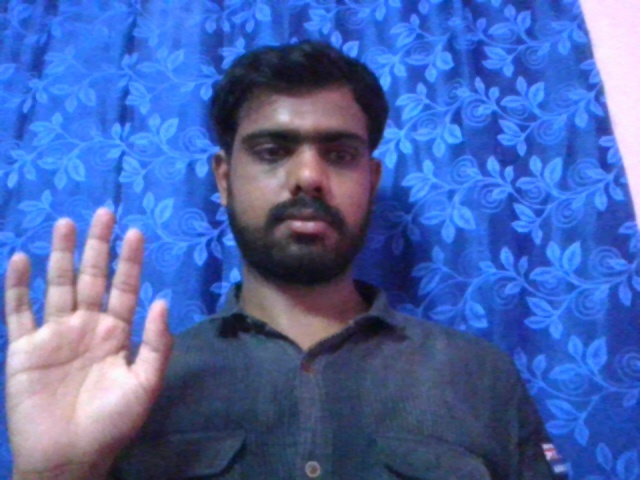Hello: (5, 203, 175, 461)
